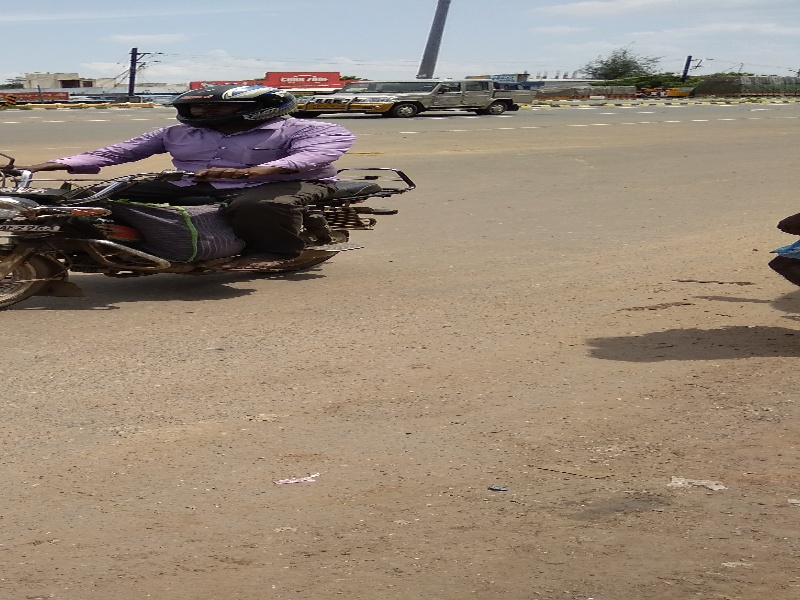biker: (1, 30, 434, 329)
helmet: (164, 69, 305, 135)
